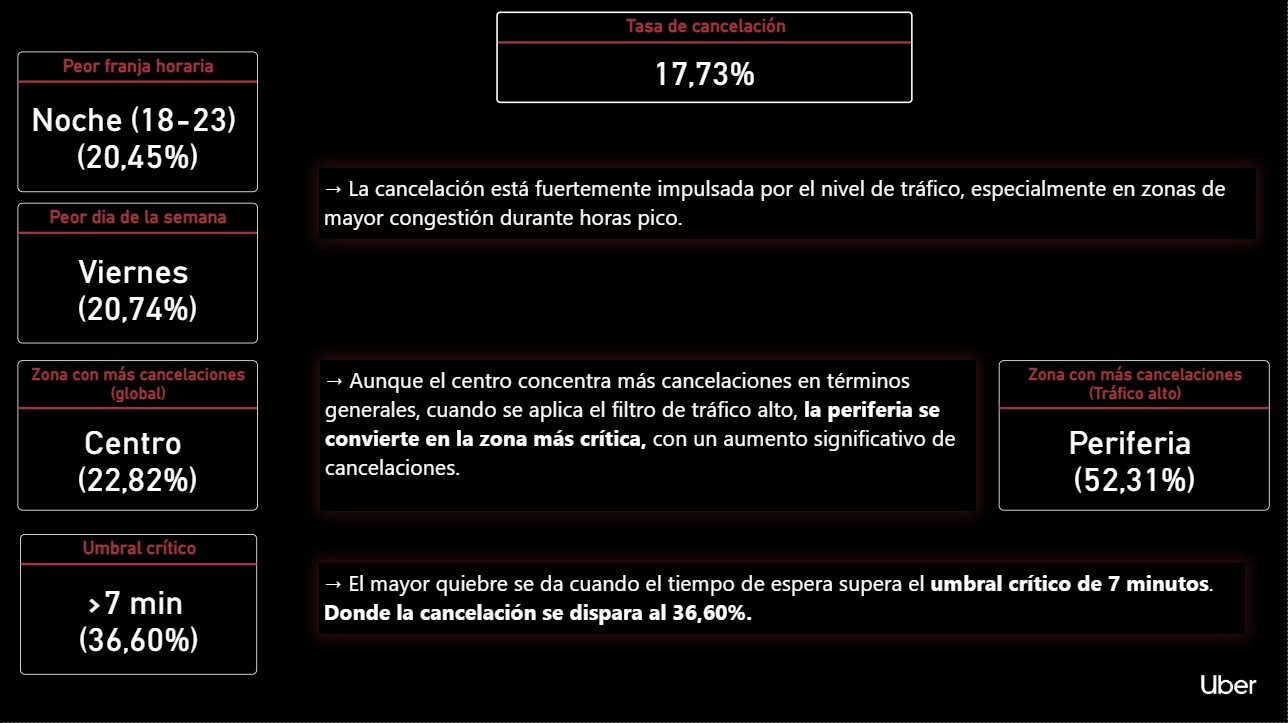

The dashboard page shown, as its layout file describes it:
{"tool":"powerbi","page":{"name":"KPIs","canvas":[1280,720],"ordinal":2},"visuals":[{"type":"image","box":[1165.6,645.6,114.4,74.6],"z":0},{"type":"card","title":"Tasa de cancelación","fields":{"Values":["Tabla de medidas.Porcentaje de cancelaciones"]},"box":[493.9,12.4,414.2,90.8],"z":1000},{"type":"card","title":"Peor franja horaria","fields":{"Values":["Tabla de medidas.Peor franja horaria"]},"box":[17.4,52.2,238.8,140],"z":2000},{"type":"card","title":"Peor dia de la semana","fields":{"Values":["Tabla de medidas.Peor día de la semana"]},"box":[17.4,202.8,238.8,140],"z":3000},{"type":"card","title":"Zona con más cancelaciones (global)","fields":{"Values":["Tabla de medidas.Zona con más cancelaciones"]},"box":[17.4,359.5,238.8,149.3],"z":4000},{"type":"card","title":"Umbral crítico","fields":{"Values":["Tabla de medidas.Umbral crítico"]},"box":[19.9,532.4,236.4,140],"z":5000},{"type":"textbox","box":[317.2,167.9,933,70.9],"z":6000},{"type":"textbox","box":[317.2,561,921.8,70.9],"z":7000},{"type":"card","title":"Zona con más cancelaciones (Tráfico alto)","fields":{"Values":["Tabla de medidas.Zona con más cancelaciones"]},"box":[993.9,359.5,269.9,149.3],"z":8000},{"type":"textbox","box":[318.5,359.5,653.1,149.3],"z":9000}]}

Visuals, with their boxes in screenshot pixels (x1, y1, x2, y2), scaled from the page's 1280x720 canvas onto the 1288x723 screenshot:
image: locate(1173, 648, 1287, 722)
"Tasa de cancelación" card: locate(497, 12, 914, 104)
"Peor franja horaria" card: locate(18, 52, 258, 193)
"Peor dia de la semana" card: locate(18, 204, 258, 344)
"Zona con más cancelaciones (global)" card: locate(18, 361, 258, 511)
"Umbral crítico" card: locate(20, 535, 258, 675)
textbox: locate(319, 169, 1258, 240)
textbox: locate(319, 563, 1247, 635)
"Zona con más cancelaciones (Tráfico alto)" card: locate(1000, 361, 1272, 511)
textbox: locate(320, 361, 978, 511)
